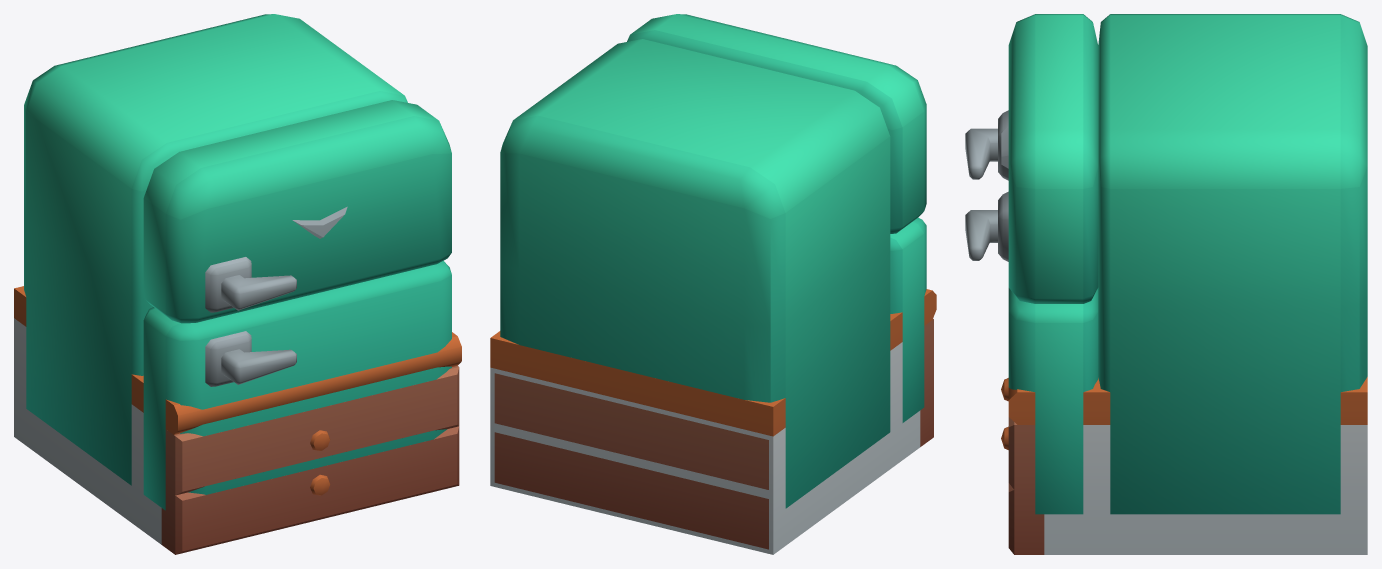
File: restaurant-bits.glb
The picture shows the model from 3 angles, left to right: view 1: azimuth 30°, elevation 25°; view 2: azimuth 150°, elevation 25°; view 3: azimuth 270°, elevation 25°; orthographic projection. The views are drawn at different scales.
Visible parts, largest first — view 1: fridge_A, crate, kitchencounter_straight_A, kitchencounter_sink; view 2: fridge_A, crate, kitchencounter_sink, kitchencounter_straight_A; view 3: fridge_A, kitchencounter_sink, crate, kitchencounter_straight_A.
Boxes of the visible parts, left/top/right/bottom form: fridge_A: left=24, top=14, right=451, bottom=510; crate: left=161, top=366, right=459, bottom=554; kitchencounter_straight_A: left=14, top=291, right=461, bottom=544; kitchencounter_sink: left=14, top=286, right=461, bottom=526; fridge_A: left=500, top=14, right=926, bottom=508; crate: left=494, top=319, right=933, bottom=549; kitchencounter_sink: left=490, top=289, right=936, bottom=554; kitchencounter_straight_A: left=490, top=290, right=936, bottom=554; fridge_A: left=965, top=14, right=1367, bottom=514; kitchencounter_sink: left=1001, top=377, right=1367, bottom=554; crate: left=1008, top=417, right=1044, bottom=554; kitchencounter_straight_A: left=1001, top=378, right=1367, bottom=517.
Bounding box in the file's own units: 2 × 2.5 × 2.24.
Materials: 1 (1 with a texture image).
